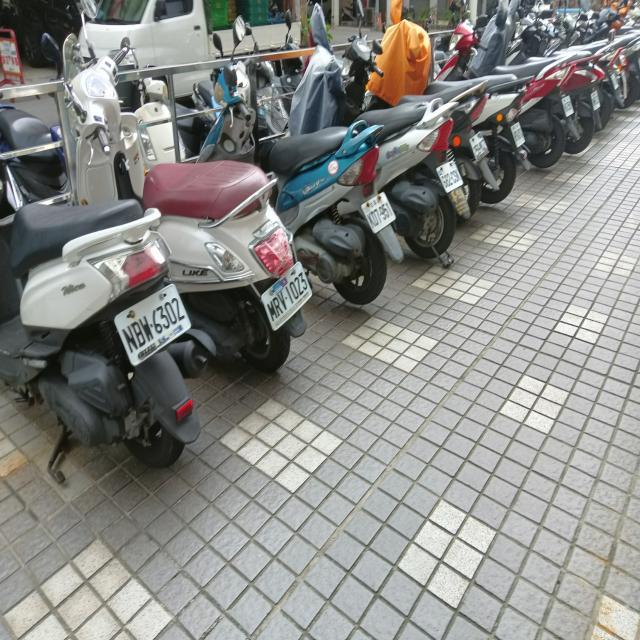license-plate: (116, 284, 193, 363), (264, 265, 313, 326), (362, 189, 395, 233), (435, 159, 464, 193)
